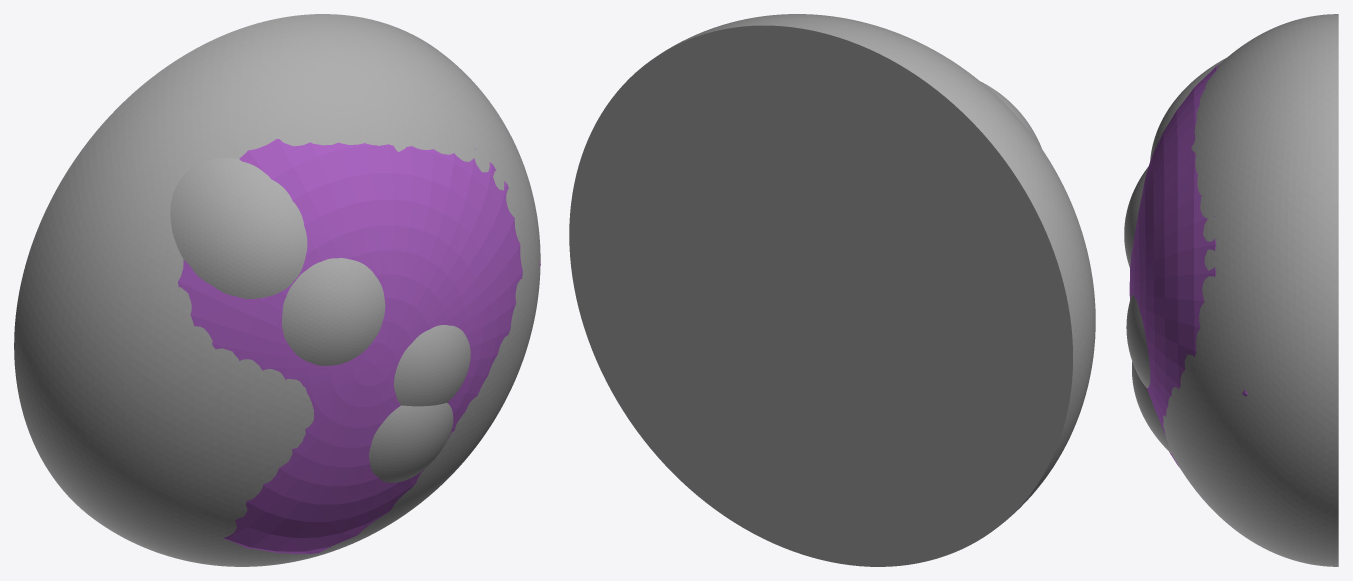
The model's file is G05_A0_ALIGNED_GT.glb.
3 renders of one model, left to right at view 1: azimuth 30°, elevation 25°; view 2: azimuth 150°, elevation 25°; view 3: azimuth 270°, elevation 25°, orthographic. The views are drawn at different scales.
Visible parts, largest first — view 1: Independent_GT, A0; view 2: Independent_GT; view 3: Independent_GT, A0.
Part boxes in pixels (x1=…): Independent_GT: x1=14, y1=14, x2=540, y2=566; A0: x1=178, y1=139, x2=540, y2=553; Independent_GT: x1=569, y1=14, x2=1095, y2=566; Independent_GT: x1=1124, y1=14, x2=1338, y2=566; A0: x1=1129, y1=64, x2=1248, y2=467.
Bounding box in the file's own units: 0.018 × 0.018 × 0.00699.
